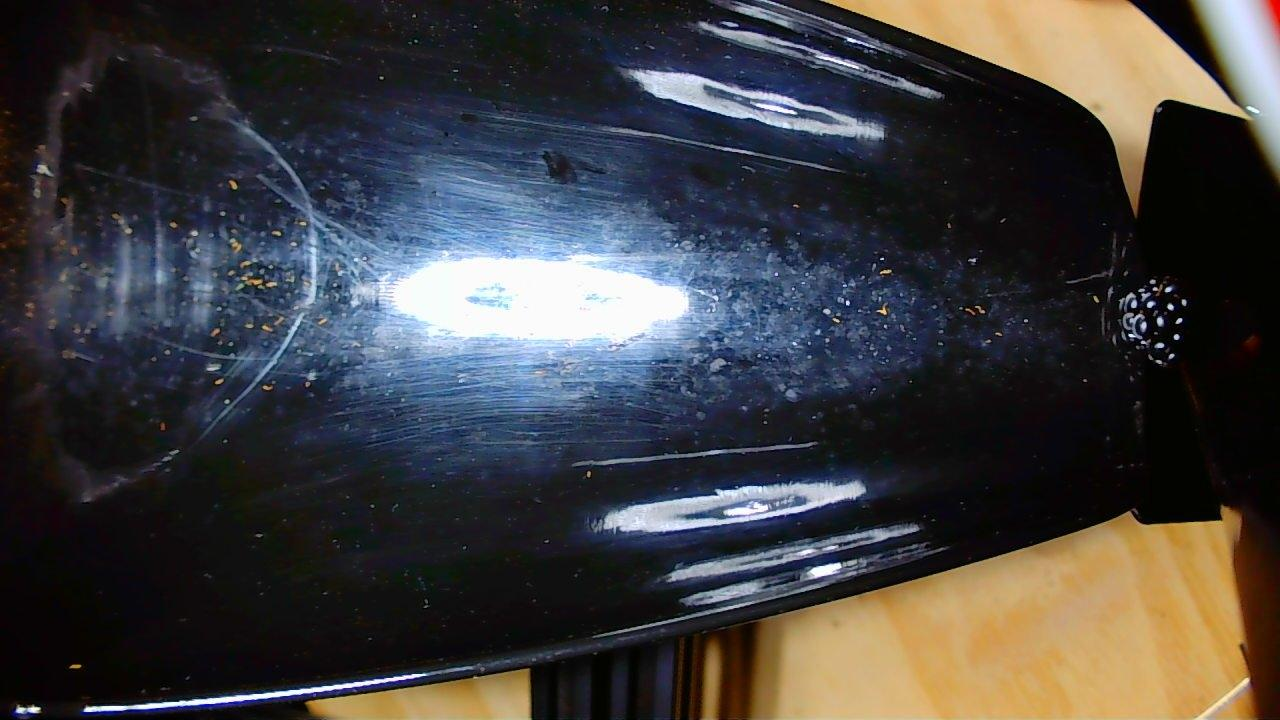berry: (1110, 274, 1188, 372)
